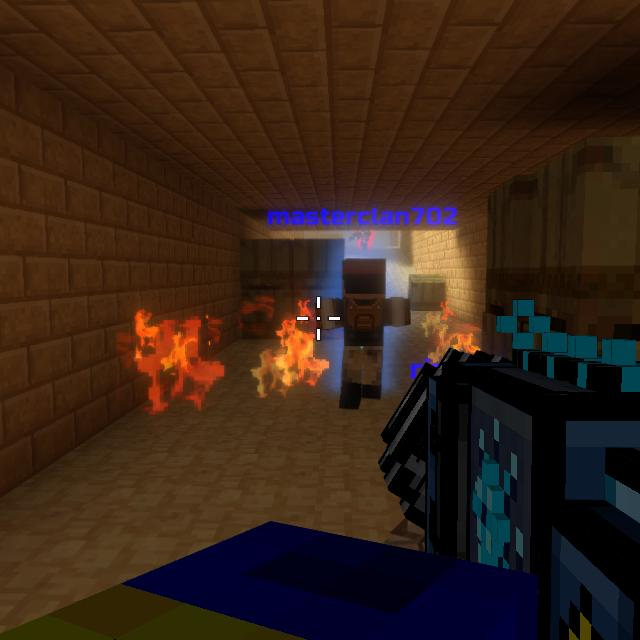Enemy: (357, 223, 373, 249)
